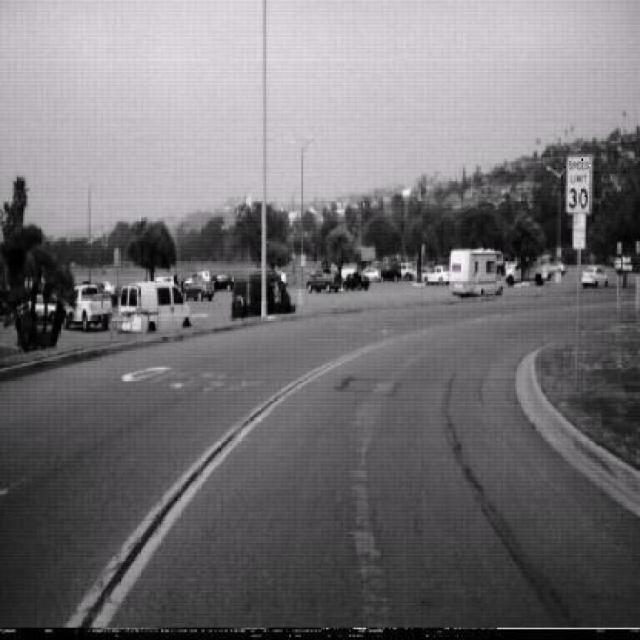speedLimit30: (566, 151, 594, 214)
